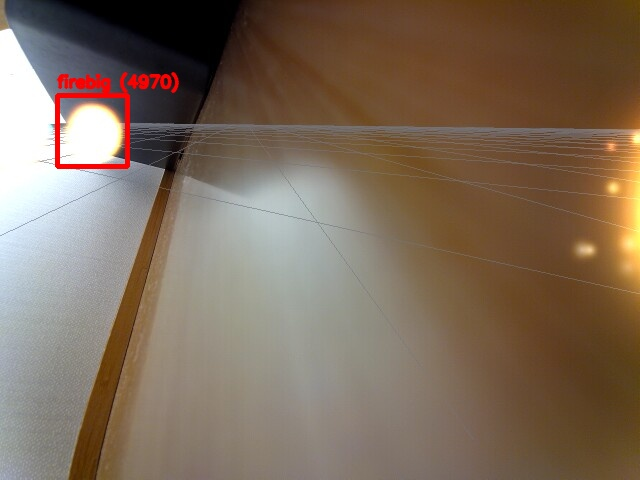firebig: (57, 95, 127, 166)
